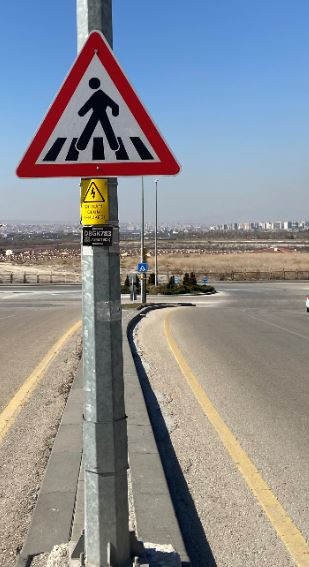Yaya Gecidi: (16, 31, 181, 181)
